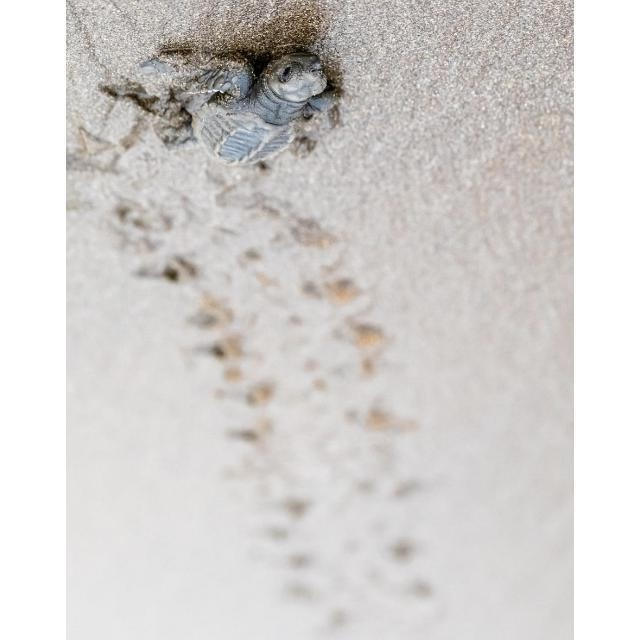turtle: (149, 50, 341, 167)
